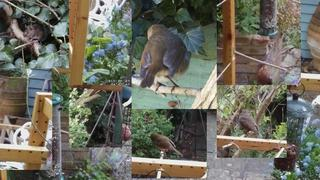mouse: (23, 24, 45, 45)
robin: (139, 24, 193, 95), (148, 133, 183, 156)
starling: (239, 109, 263, 139)
